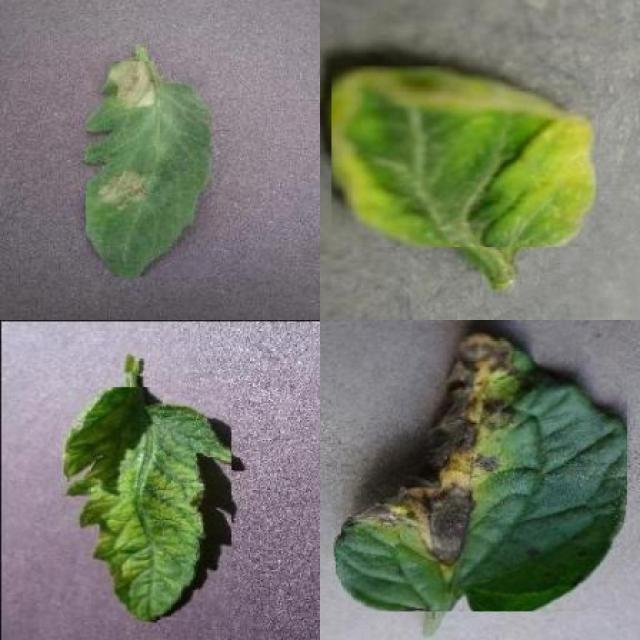Early Blight: (336, 329, 628, 612)
Late Blight: (86, 62, 211, 277)
Mosaic Virus: (62, 387, 232, 620)
Yellow Leaf Curl Virus: (331, 66, 596, 247)
